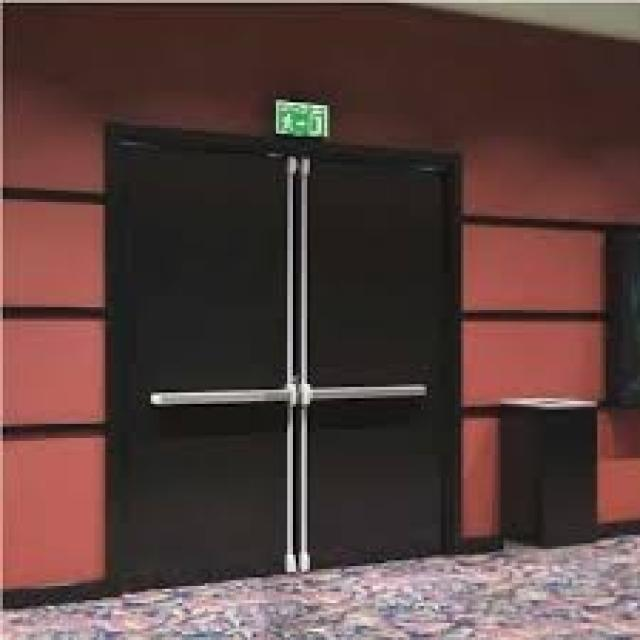door: (105, 124, 461, 593)
